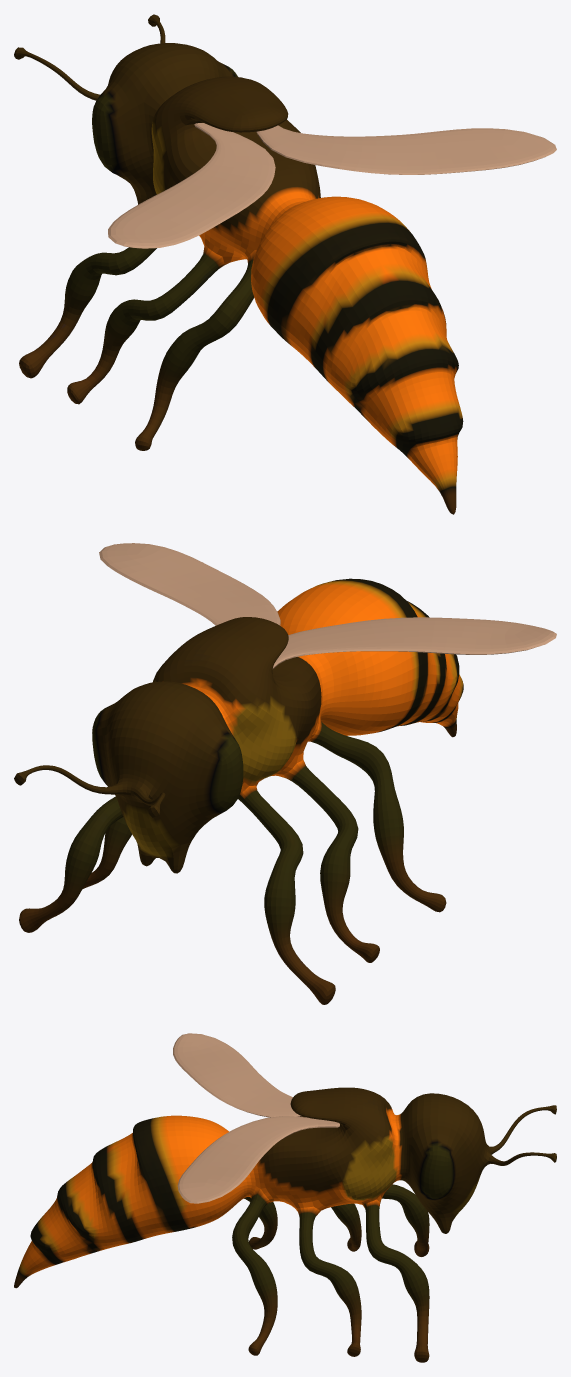
Rendered from wesp.gltf.
The picture shows the model from 3 angles, top to bottom: view 1: azimuth 30°, elevation 25°; view 2: azimuth 150°, elevation 25°; view 3: azimuth 270°, elevation 25°; orthographic projection. The views are drawn at different scales.
Visible parts, largest first — view 1: bee_obj, bee_wing.001, bee_wing; view 2: bee_obj, bee_wing, bee_wing.001; view 3: bee_obj, bee_wing.001, bee_wing.
Boxes of the visible parts, x1,y1,x2,y2 form: bee_obj: (14,14,463,514); bee_wing.001: (256,125,556,174); bee_wing: (108,123,275,248); bee_obj: (14,578,463,1004); bee_wing: (272,617,556,668); bee_wing.001: (99,543,280,625); bee_obj: (14,1087,556,1362); bee_wing.001: (177,1116,339,1203); bee_wing: (173,1033,302,1117).
Size of the model in its own units: 1.4 by 0.8814 by 2.01.
3 materials, 1 textured.
